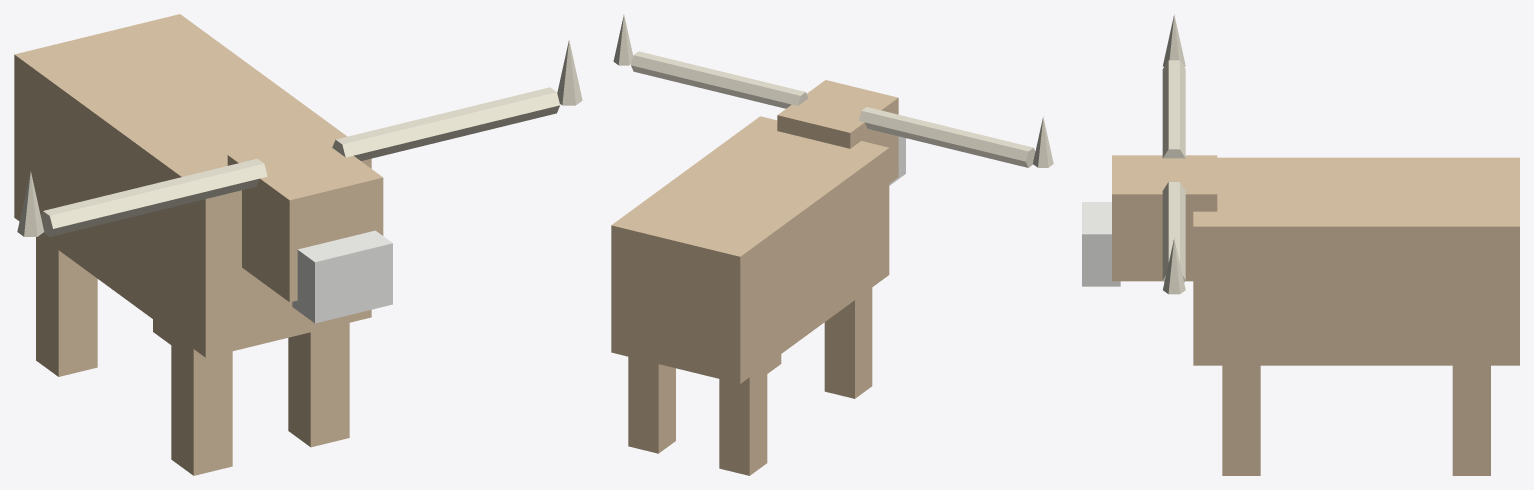
The model's file is longhorn.glb.
3 views of the same model, side by side, from view 1: azimuth 30°, elevation 25°; view 2: azimuth 150°, elevation 25°; view 3: azimuth 270°, elevation 25° (orthographic). The views are drawn at different scales.
Parts seen in each view (by area): view 1: longhorn; view 2: longhorn; view 3: longhorn.
Boxes of the visible parts, x1,y1,x2,y2 form: longhorn: (14,14,582,475); longhorn: (611,15,1053,475); longhorn: (1082,15,1519,475).
Bounding box in the file's own units: 2.86 × 1.82 × 2.28.
